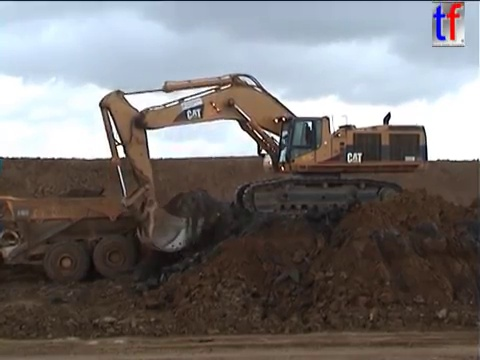excavator: (96, 70, 431, 255)
truck: (1, 192, 158, 285)
